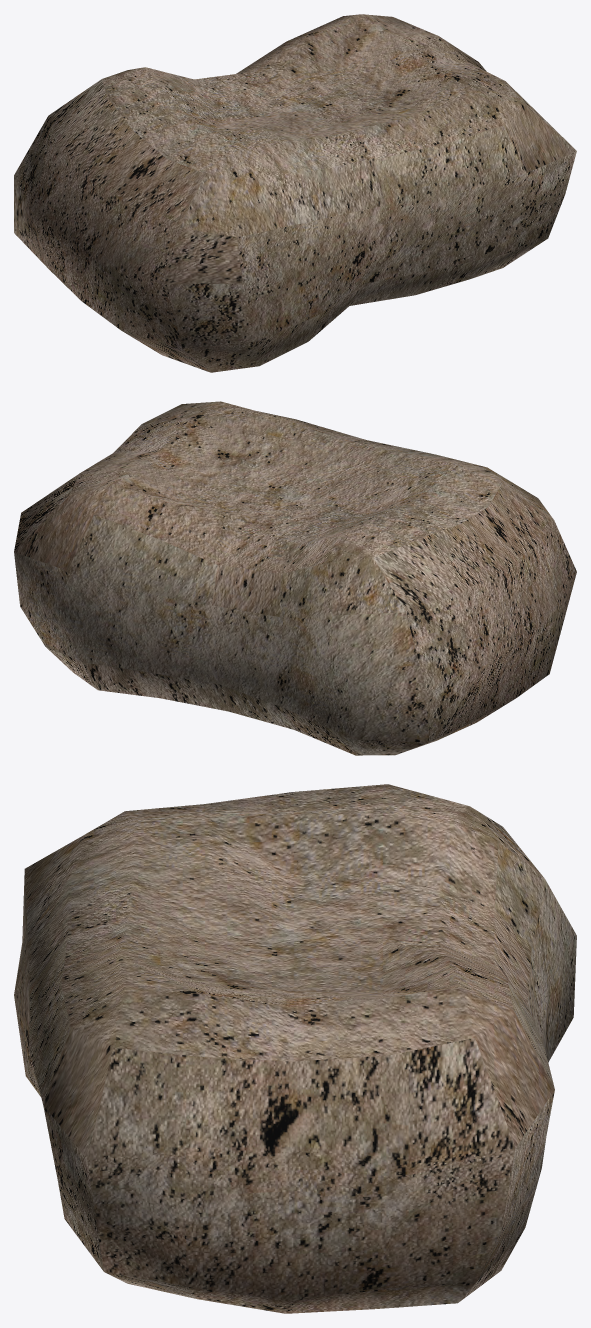
Rendered from rock4fbx.fbx.
3 views of the same model, one above another, from view 1: azimuth 30°, elevation 25°; view 2: azimuth 150°, elevation 25°; view 3: azimuth 270°, elevation 25° (orthographic). The views are drawn at different scales.
Visible parts, largest first — view 1: rock_4; view 2: rock_4; view 3: rock_4.
Part boxes in pixels (left/top/right/bottom): rock_4: left=14, top=14, right=576, bottom=372; rock_4: left=14, top=401, right=576, bottom=755; rock_4: left=14, top=784, right=576, bottom=1313.
Size of the model in its own units: 6.03 by 2.84 by 4.32.
